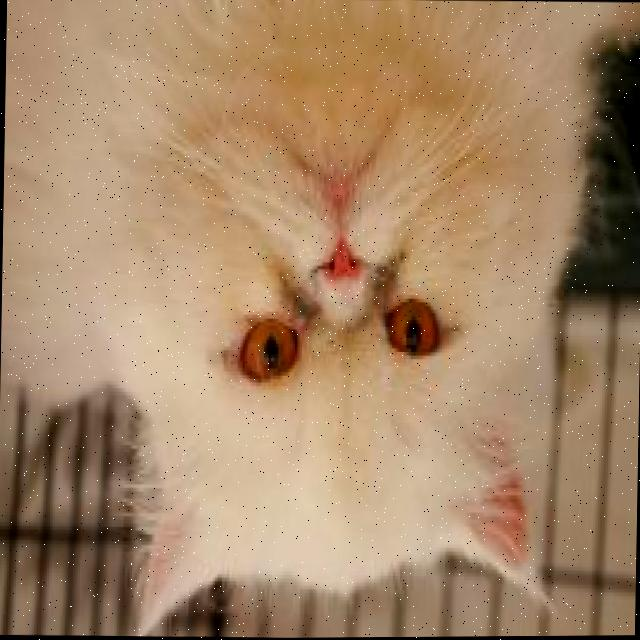Persian: (0, 0, 605, 640)
